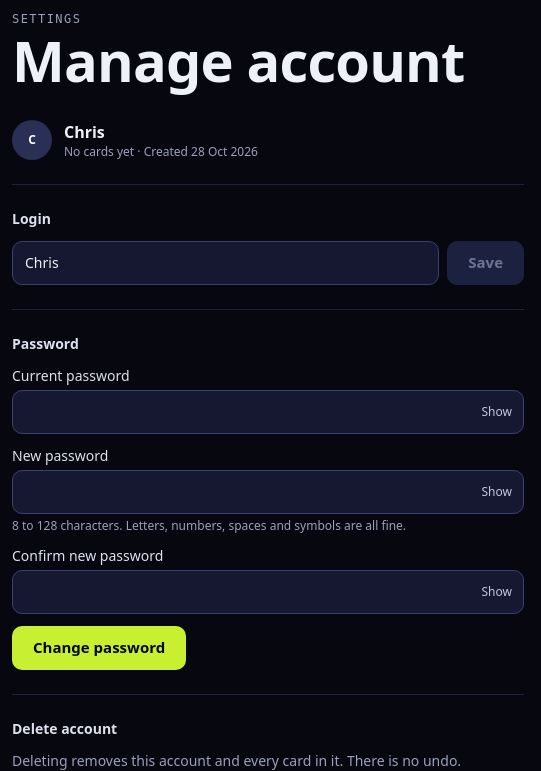
Test: ManageAccount › Login section › validates length and shows a taken login
Replace the text in the field named "New login" with "ab" at (226, 263), box [12,241,439,285]
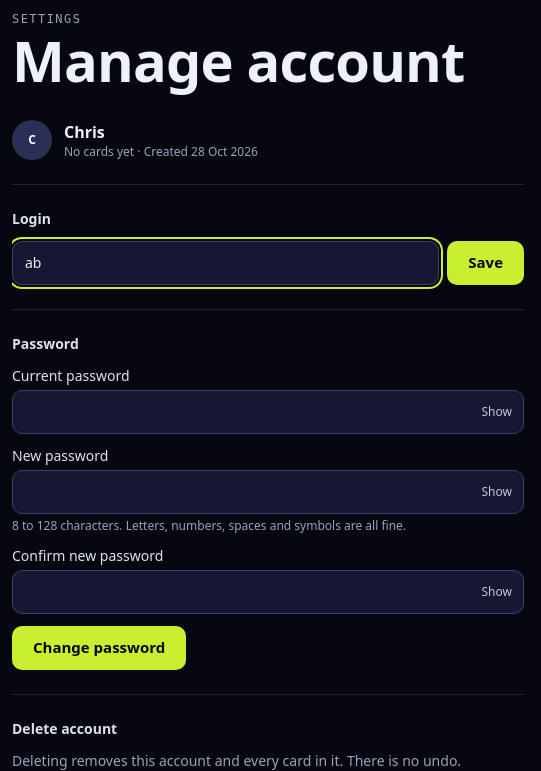
Click the button "Save" at (486, 263), box [447,241,524,285]
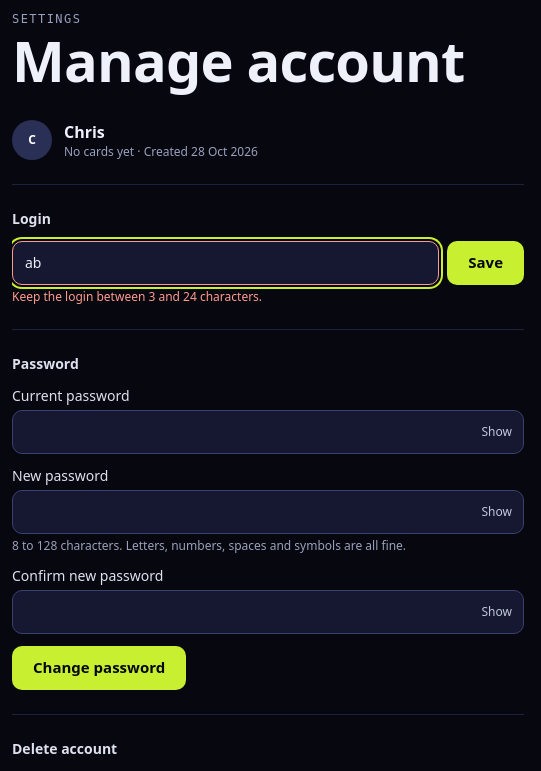
Now the message reads "Keep the login between 3 and 24 characters.", box [12,288,262,305]
Type "c" into the field named "New login" at (226, 263), box [12,241,439,285]
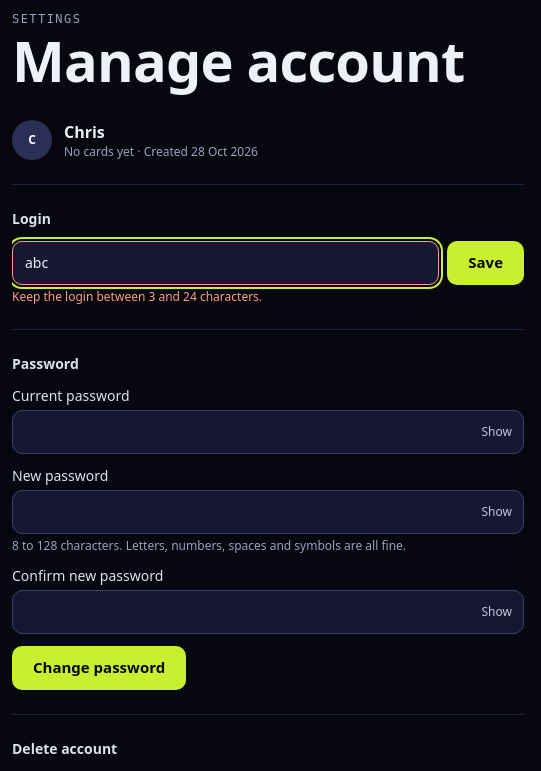
Click the button "Save" at (486, 263), box [447,241,524,285]
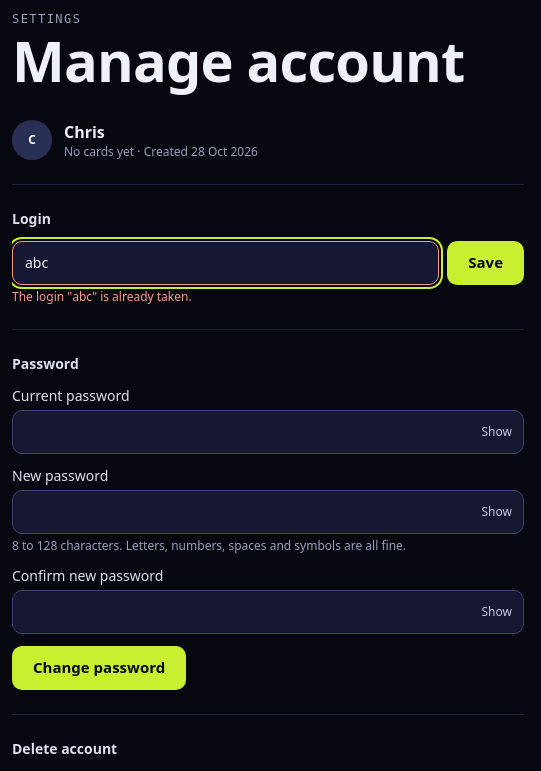
Now the message reads "The login \"abc\" is already taken.", box [12,288,192,305]
Now the text "abc" is shown, box [72,288,92,305]
